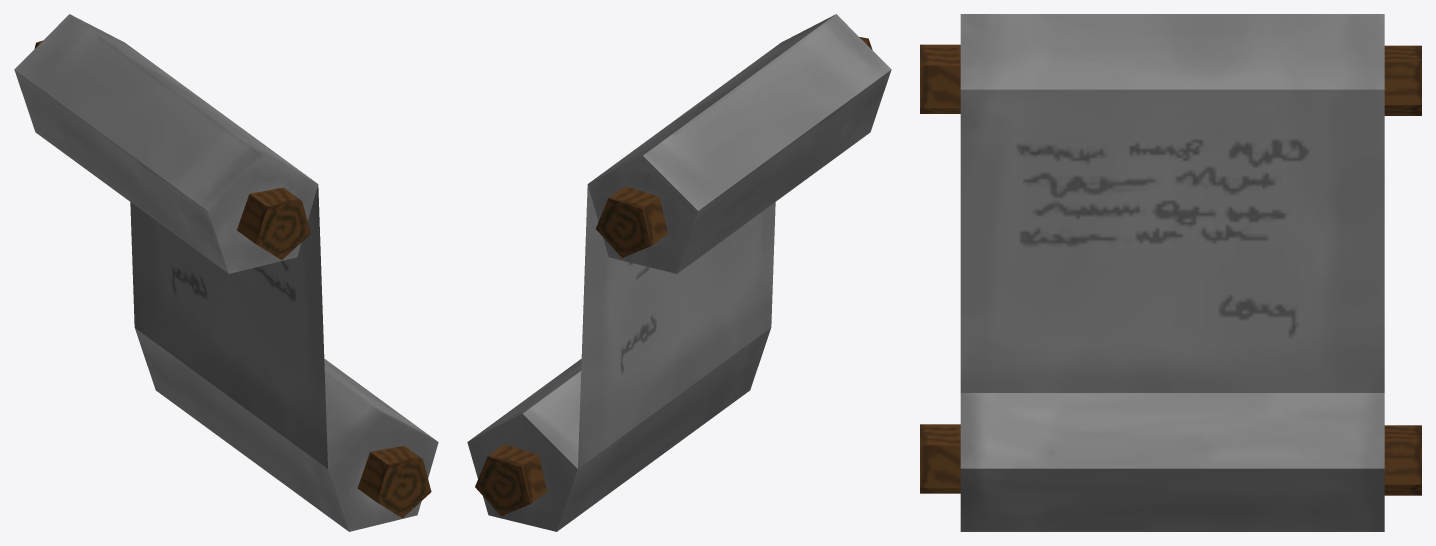
The model's file is notatka.fbx.
3 renders of one model, left to right at view 1: azimuth 30°, elevation 25°; view 2: azimuth 150°, elevation 25°; view 3: azimuth 270°, elevation 25°, orthographic. The views are drawn at different scales.
Visible parts, largest first — view 1: Cylinder.001; view 2: Cylinder.001; view 3: Cylinder.001.
Boxes of the visible parts, x1,y1,x2,y2 form: Cylinder.001: (14,14,438,531); Cylinder.001: (467,14,891,531); Cylinder.001: (920,14,1421,531).
Bounding box in the file's own units: 158 × 260 × 272.
